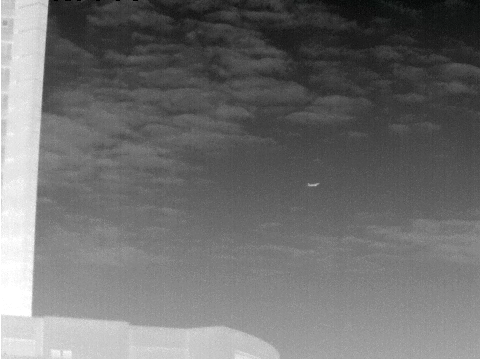dim target: (304, 179, 321, 188)
